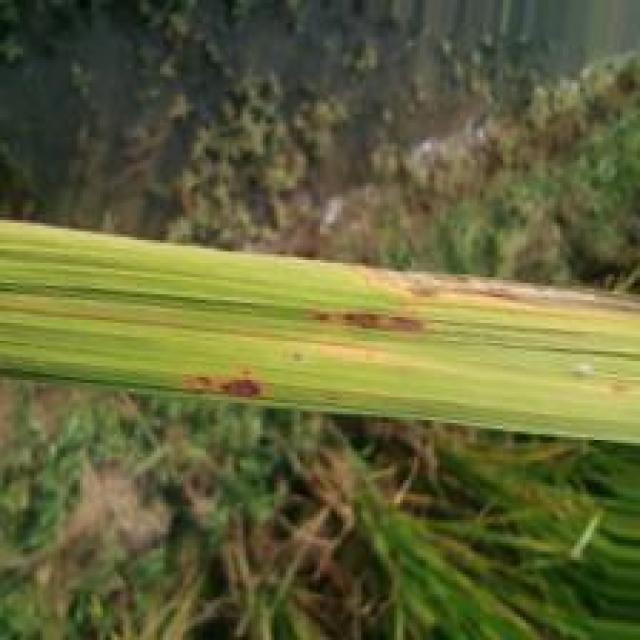Leaf_Blast: (352, 267, 620, 306)
